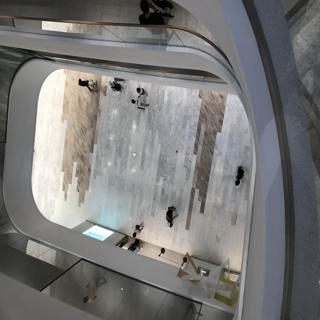person: (126, 92, 152, 114), (232, 162, 251, 191), (164, 205, 184, 232), (134, 82, 157, 100), (127, 220, 148, 239), (105, 78, 127, 91)
